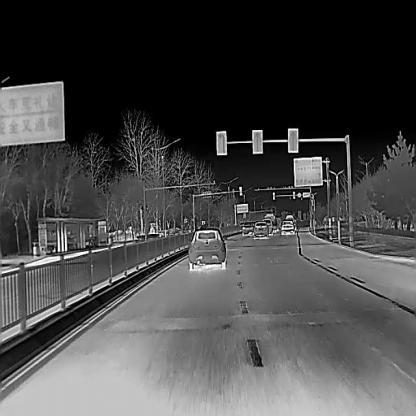car: (187, 228, 226, 270), (263, 212, 277, 233), (253, 220, 268, 238), (280, 219, 295, 235), (242, 220, 254, 236), (262, 217, 272, 234), (285, 213, 294, 219)
